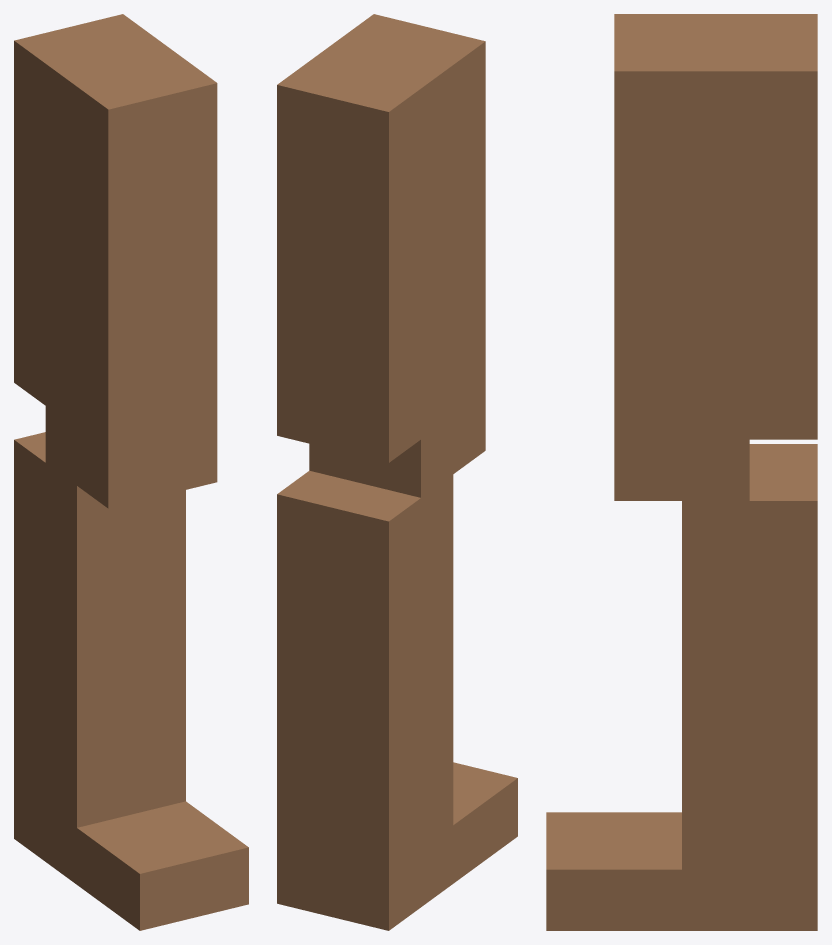
File: char-143-leg_0.obj
3 renders of one model, left to right at view 1: azimuth 30°, elevation 25°; view 2: azimuth 150°, elevation 25°; view 3: azimuth 270°, elevation 25°, orthographic. The views are drawn at different scales.
Visible parts, largest first — view 1: leg_0; view 2: leg_0; view 3: leg_0.
Part boxes in pixels (<box>): leg_0: <box>14,14,248,930</box>; leg_0: <box>277,14,517,930</box>; leg_0: <box>546,14,817,930</box>.
Size of the model in its own units: 0.2 by 1.4 by 0.4.
Materials: 1 (1 with a texture image).
